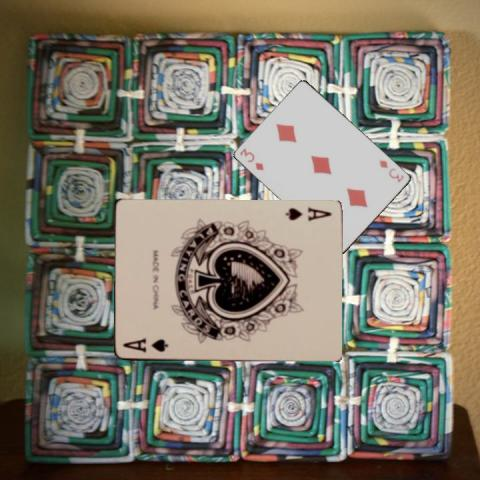3d: (377, 157, 405, 184), (237, 145, 265, 172)
As: (282, 204, 333, 223), (120, 335, 169, 354)
